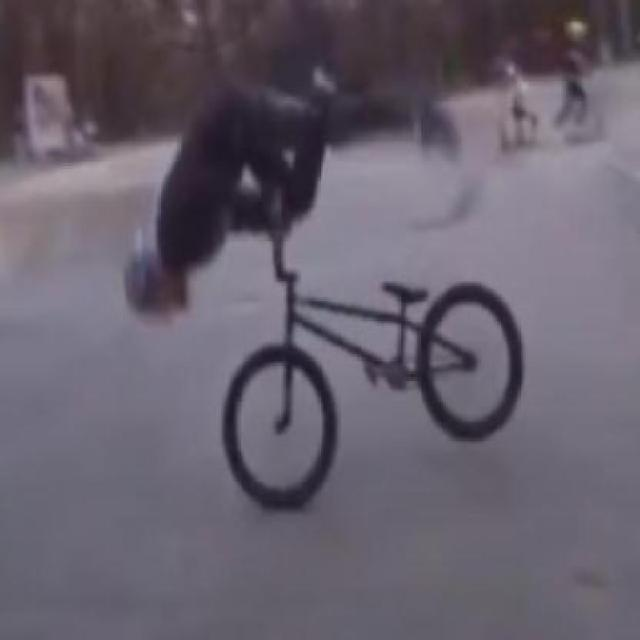fall: (121, 36, 450, 316)
